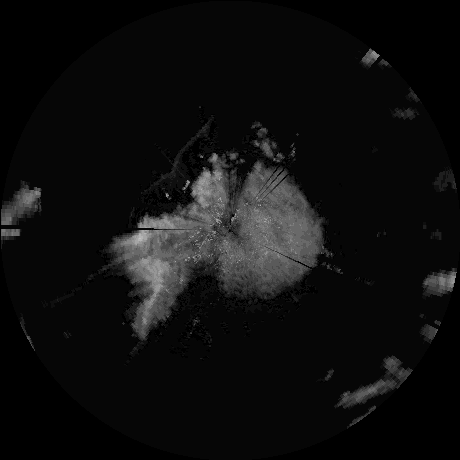frontgust: (152, 125, 209, 186)
